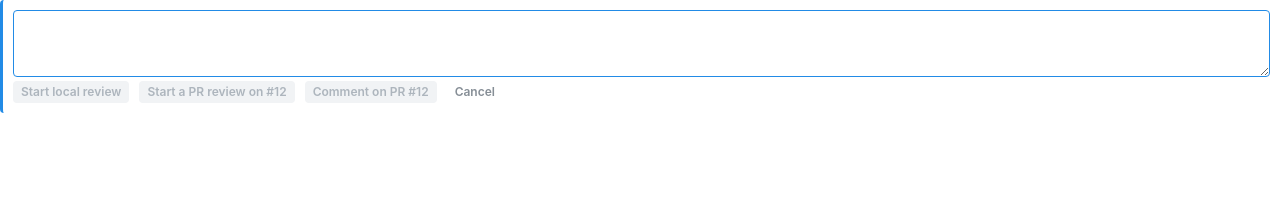
it: NewCommentCard › with a PR › offers local, PR review and comment now, in that order, with no pending review
Expected: the button "Start a PR review on #12" is shown, [139,81,295,103]
Expected: the buttons read "Start local review", "Start a PR review on #12", "Comment on PR #12", "Cancel", in this order, [13,81,129,103]; [139,81,295,103]; [305,81,437,103]; [447,81,503,103]
Step 1. Type "x" into the text box → {"x": 642, "y": 43}, box [13,10,1270,77]
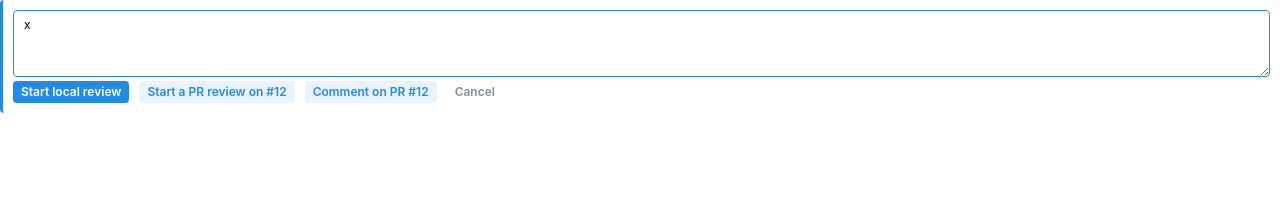
Expected: the button "Start a PR review on #12" does not have attribute aria-disabled="true"
Step 2. Hover over the button "Start a PR review on #12" → {"x": 217, "y": 92}, box [139,81,295,103]
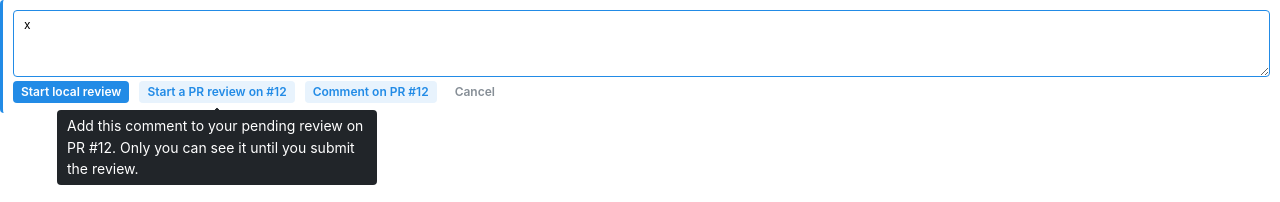
Expected: the tooltip "Add this comment to your pending review on PR #12. Only you can see it until you submit the review." is shown, [67,117,363,177]
Step 3. Hover over the button "Comment on PR #12" → {"x": 371, "y": 92}, box [305,81,437,103]
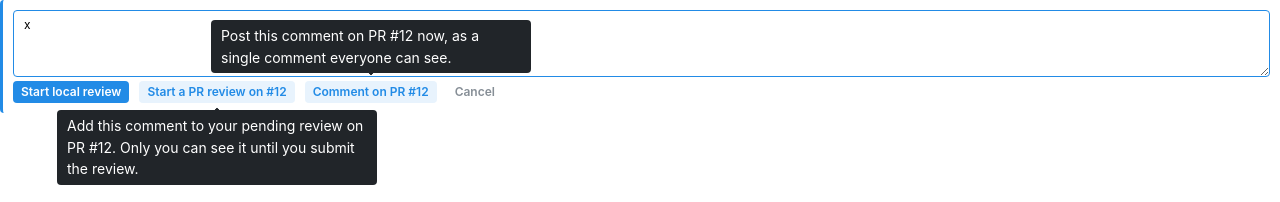
Expected: the tooltip "Post this comment on PR #12 now, as a single comment everyone can see." is shown, [211,20,531,74]
